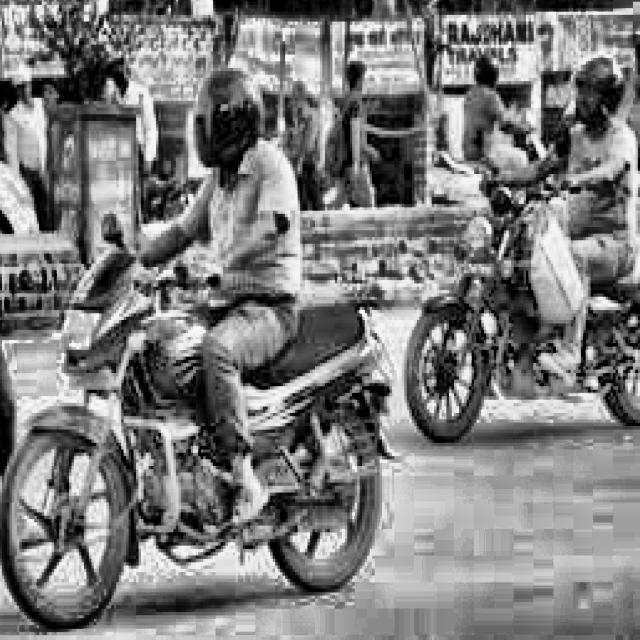Helmet: (192, 68, 265, 172), (567, 55, 628, 126)
